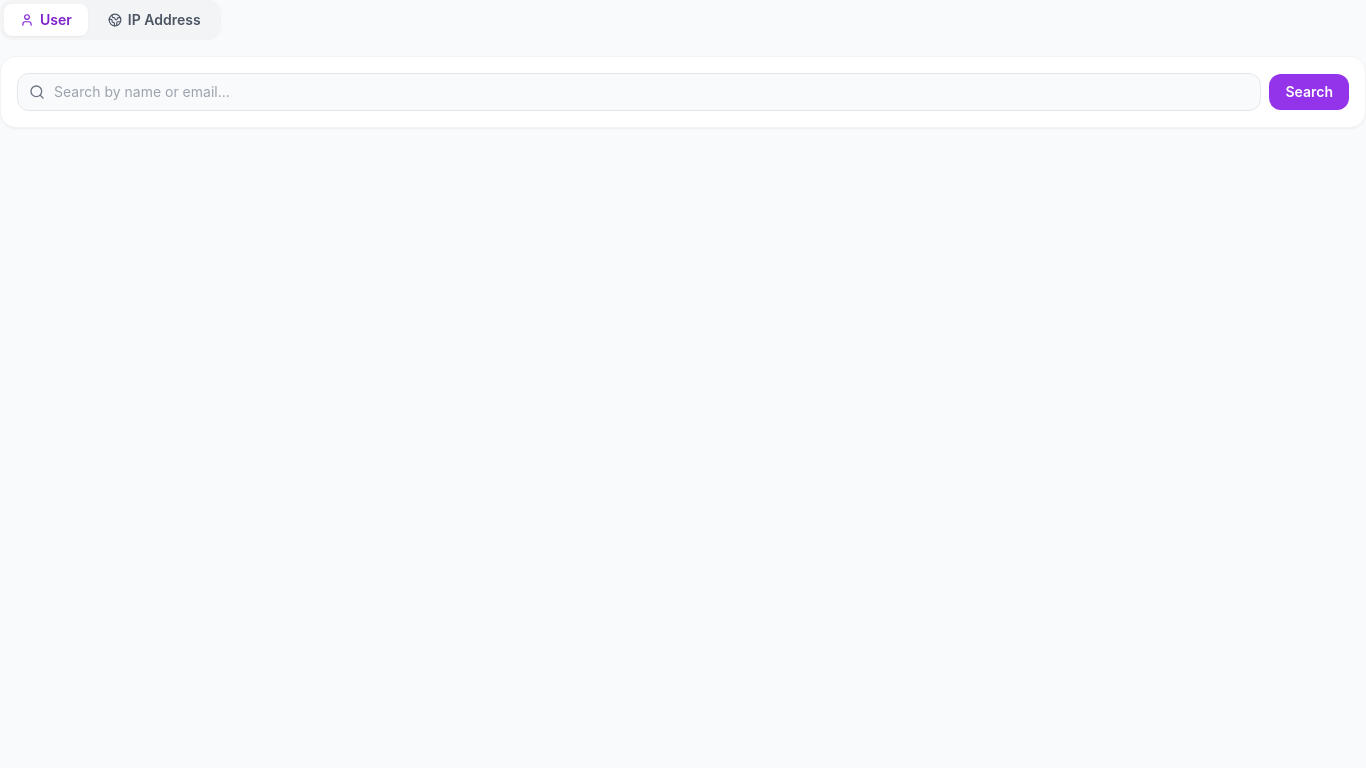
Scenario: InvestigateTab › shows the person asked for last when two lookups overlap
Type "an" into the field named "Search people by name or email" at (639, 92), box [17,73,1262,111]
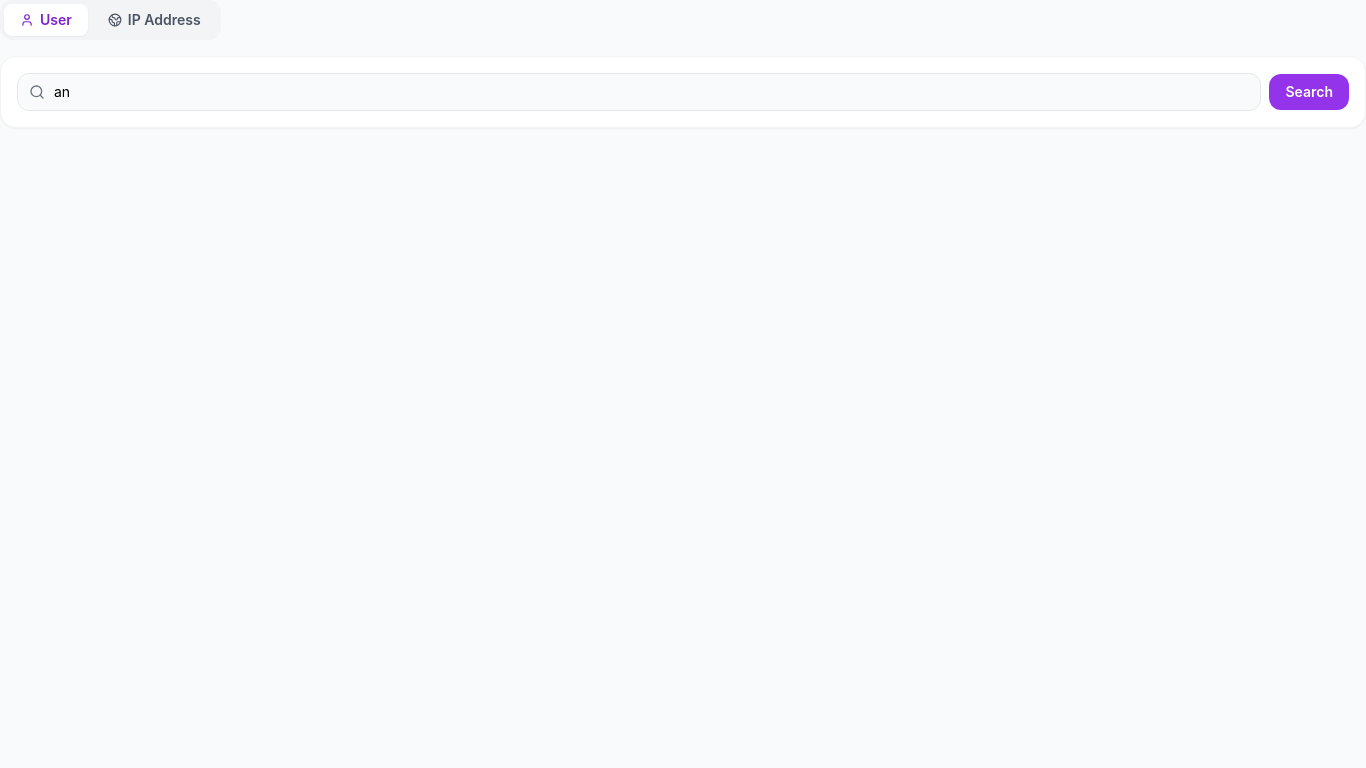
Click the button "Search" at (1309, 92), box [1270,74,1349,110]
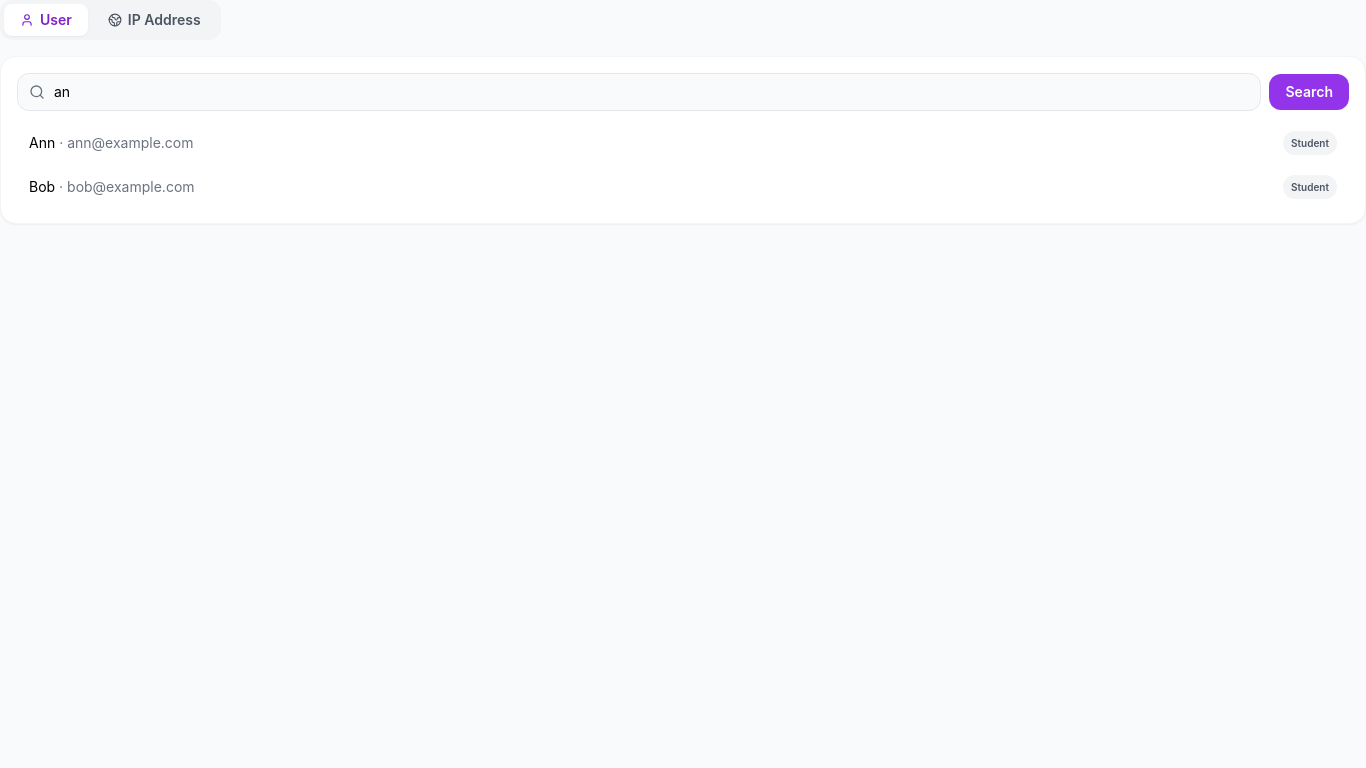
Click the button "Ann · ann@example.com student" at (130, 142), box [17,123,1349,163]
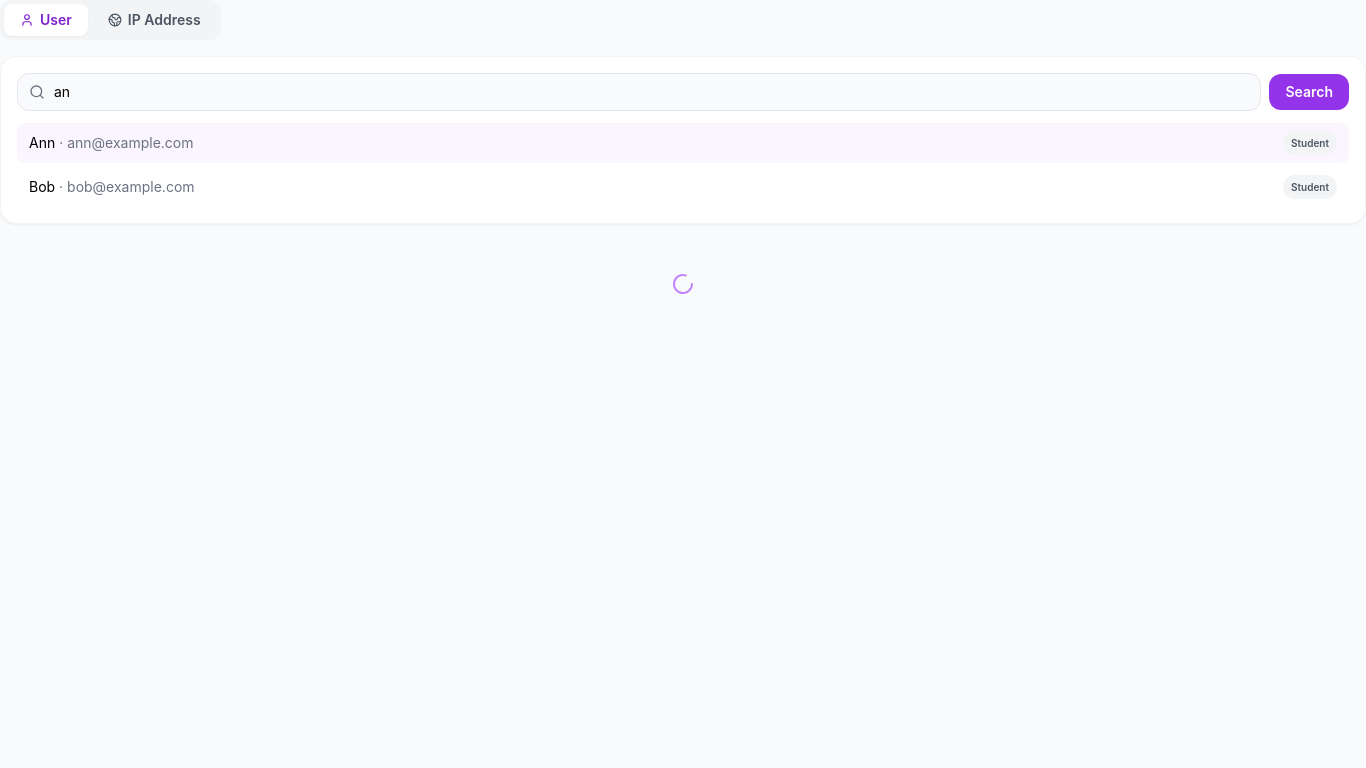
Click the button "Bob · bob@example.com student" at (131, 186), box [17,167,1349,207]
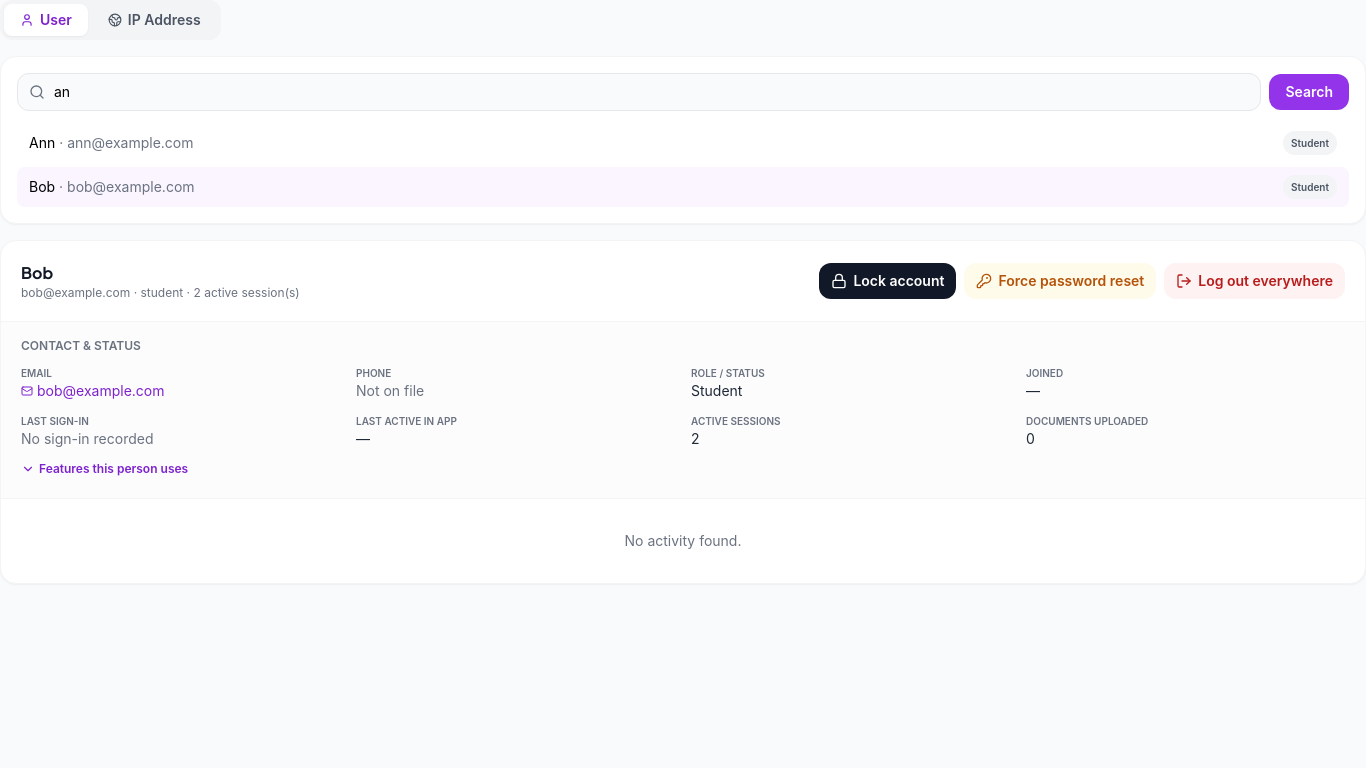
Check: the heading "Bob" is shown, box [21,262,53,283]
